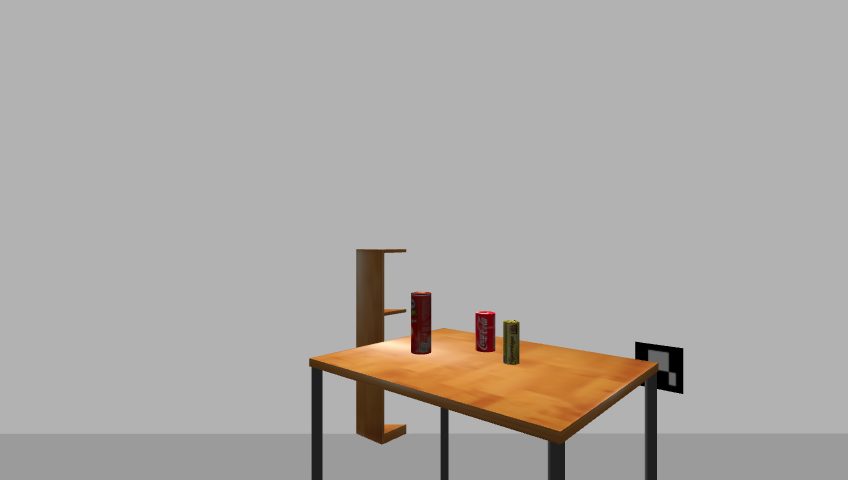aruco marker: (631, 340, 688, 395)
biscuits pack: (503, 320, 521, 366)
bookshelf: (352, 245, 410, 446)
coke can: (474, 311, 497, 354)
dinner table: (302, 328, 669, 480)
pringles can: (409, 291, 433, 357)
